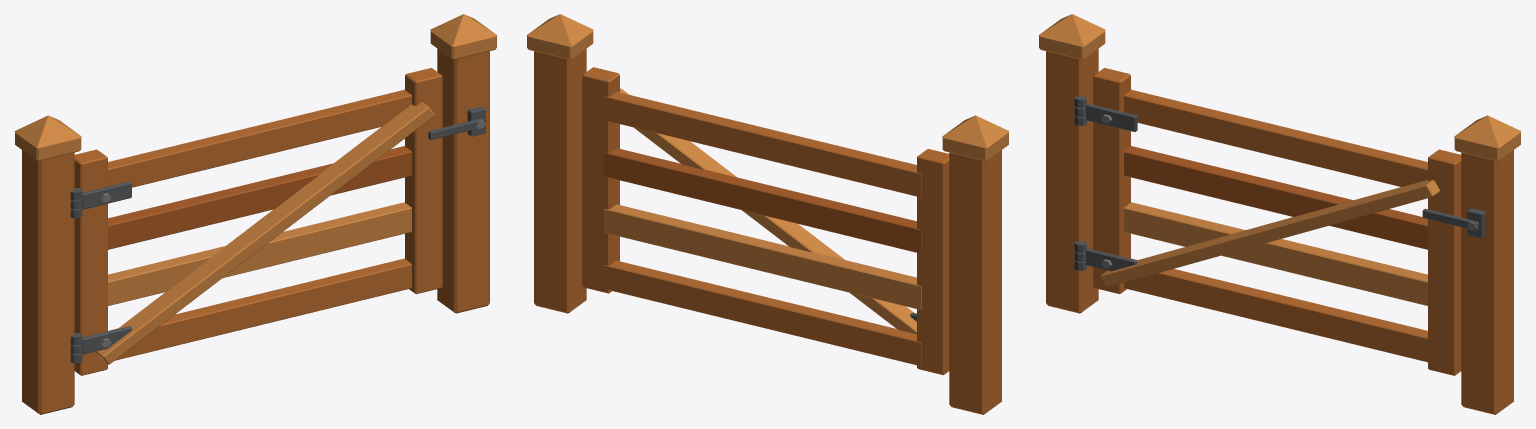
Rendered from Wooden Farm Gate.glb.
3 views of the same model, side by side, from view 1: azimuth 30°, elevation 25°; view 2: azimuth 150°, elevation 25°; view 3: azimuth 330°, elevation 25° (orthographic).
Parts seen in each view (by area): view 1: Wooden Farm Gate | Gate, Wooden Farm Gate | Static; view 2: Wooden Farm Gate | Gate, Wooden Farm Gate | Static; view 3: Wooden Farm Gate | Gate, Wooden Farm Gate | Static.
Part boxes in pixels (x1,y1,x2,y2): Wooden Farm Gate | Gate: (70,68,442,375); Wooden Farm Gate | Static: (14,14,497,414); Wooden Farm Gate | Gate: (582,67,949,375); Wooden Farm Gate | Static: (526,14,1009,414); Wooden Farm Gate | Gate: (1074,68,1461,375); Wooden Farm Gate | Static: (1038,14,1521,414).
Size of the model in its own units: 2 by 1.2 by 0.2118.
